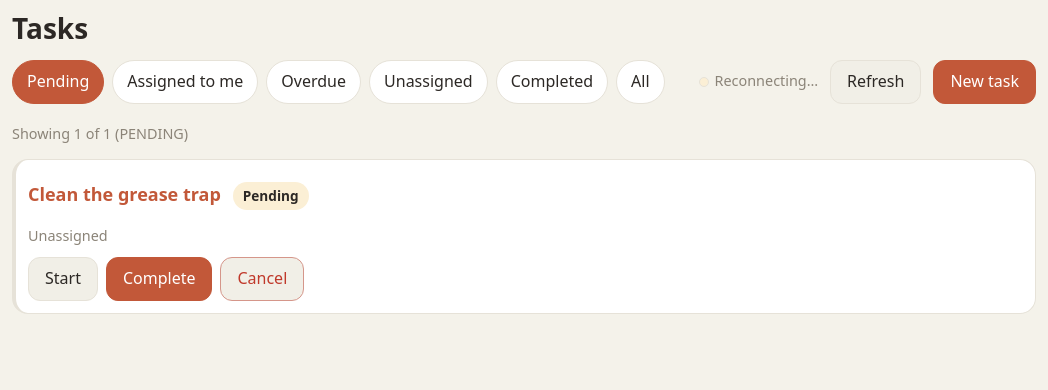
Test: Task board › shows a failure and still refetches — no false success
The image size is (1048, 390).
Expected: the link "Clean the grease trap" is shown, [28,182,221,206]
Step 1. Click the button "Complete" → x=159, y=279, box [106,257,212,301]
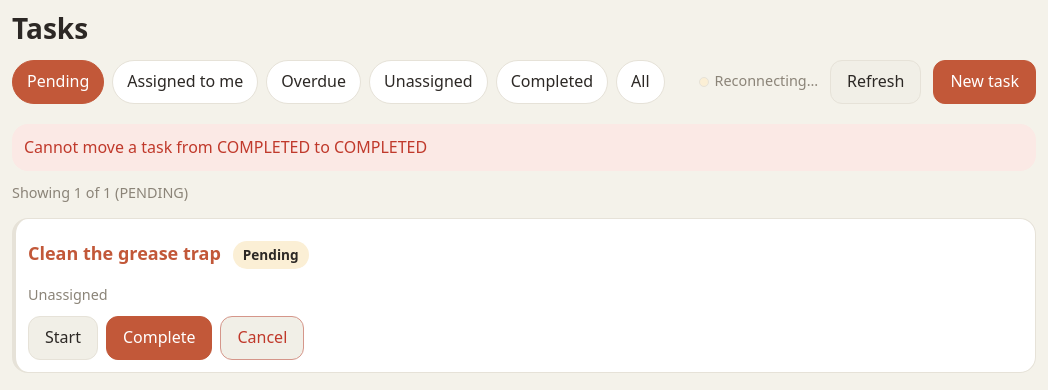
Expected: the message "Cannot move a task from COMPLETED to COMPLETED" is shown, [12,124,1036,171]
